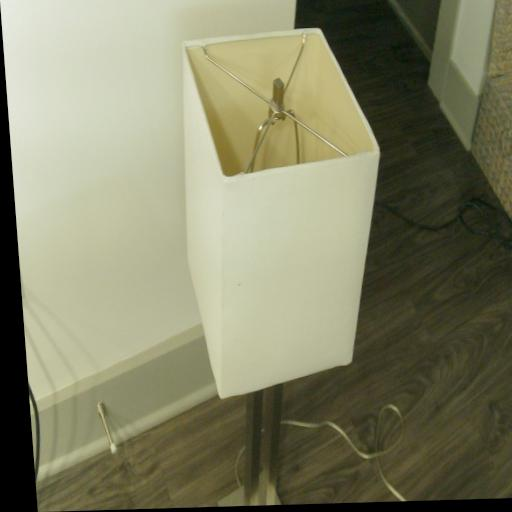lamp: (171, 27, 405, 507)
